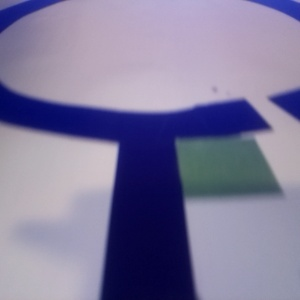bottom_right: (152, 102, 299, 188)
